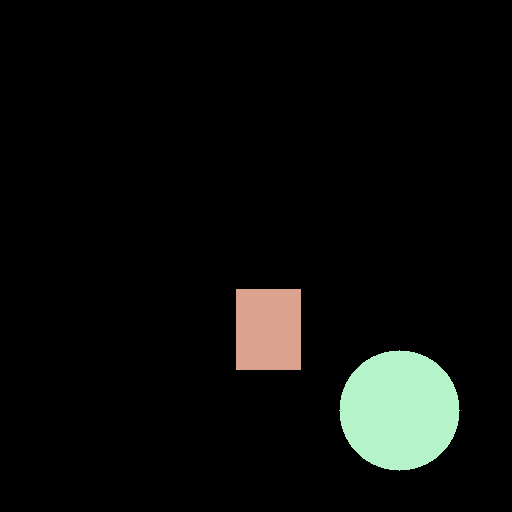circle: (339, 350, 459, 470)
rectangle: (236, 289, 300, 369)
